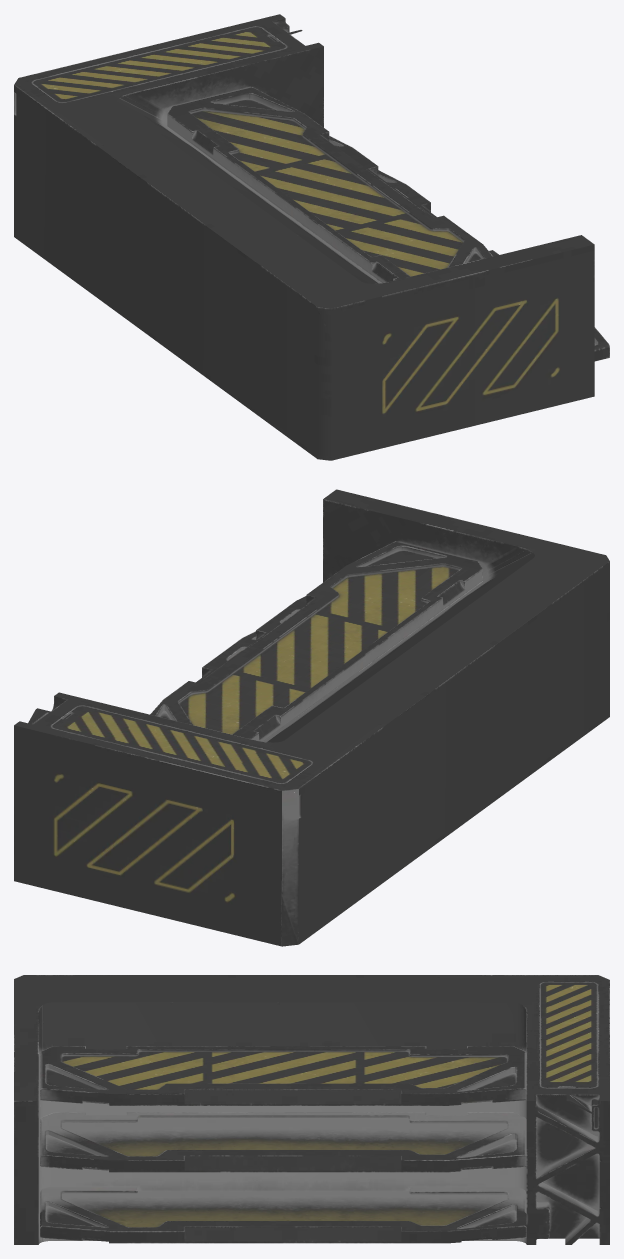
File: c049-opt.glb
The picture shows the model from 3 angles, top to bottom: view 1: azimuth 30°, elevation 25°; view 2: azimuth 150°, elevation 25°; view 3: azimuth 270°, elevation 25°; orthographic projection. The views are drawn at different scales.
Visible parts, largest first — view 1: Cube.049; view 2: Cube.049; view 3: Cube.049.
Boxes of the visible parts, x1,y1,x2,y2 form: Cube.049: (14, 14, 609, 460); Cube.049: (14, 489, 609, 946); Cube.049: (14, 975, 609, 1244).
Bounding box in the file's own units: 1.78 × 0.8274 × 3.1.
1 material, 1 textured.
